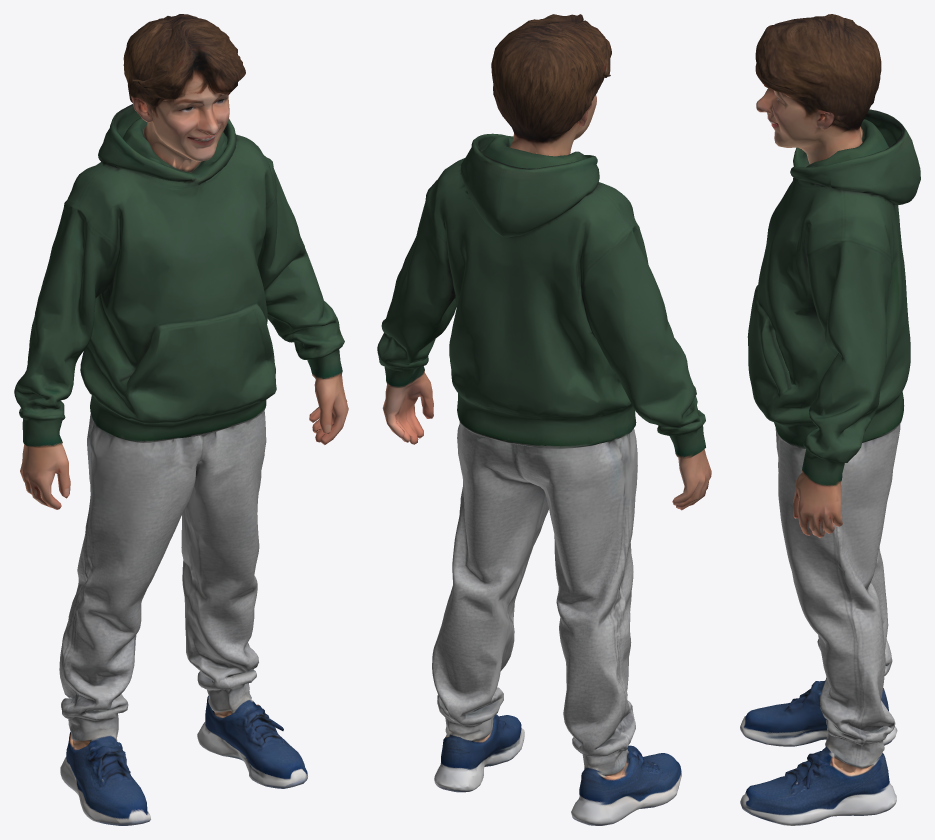
The model's file is kid_boy2.glb.
3 renders of one model, left to right at view 1: azimuth 30°, elevation 25°; view 2: azimuth 150°, elevation 25°; view 3: azimuth 270°, elevation 25°, orthographic.
Visible parts, largest first — view 1: tripo_node_62411512-032b-4d16-8f1a-72c87afcedfc; view 2: tripo_node_62411512-032b-4d16-8f1a-72c87afcedfc; view 3: tripo_node_62411512-032b-4d16-8f1a-72c87afcedfc.
Boxes of the visible parts, x1,y1,x2,y2 form: tripo_node_62411512-032b-4d16-8f1a-72c87afcedfc: [14, 14, 348, 825]; tripo_node_62411512-032b-4d16-8f1a-72c87afcedfc: [377, 14, 711, 825]; tripo_node_62411512-032b-4d16-8f1a-72c87afcedfc: [740, 14, 920, 825].
Bounding box in the file's own units: 0.4407 × 1 × 0.2164.
Materials: 1 (1 with a texture image).
